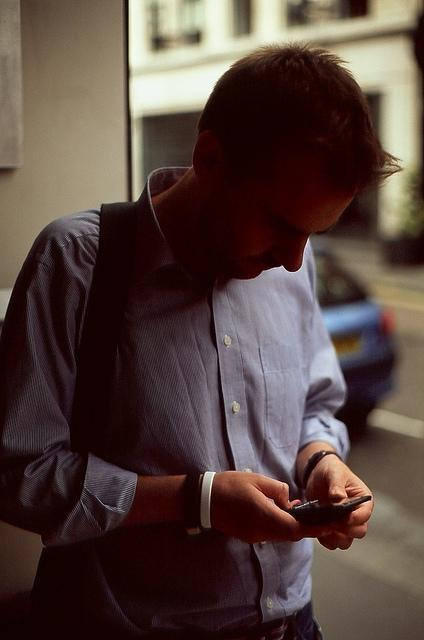car: (316, 245, 407, 435)
